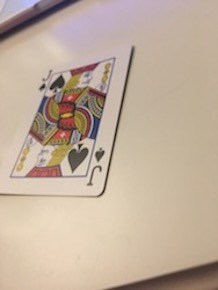JackOfSpades: (1, 42, 137, 200)
